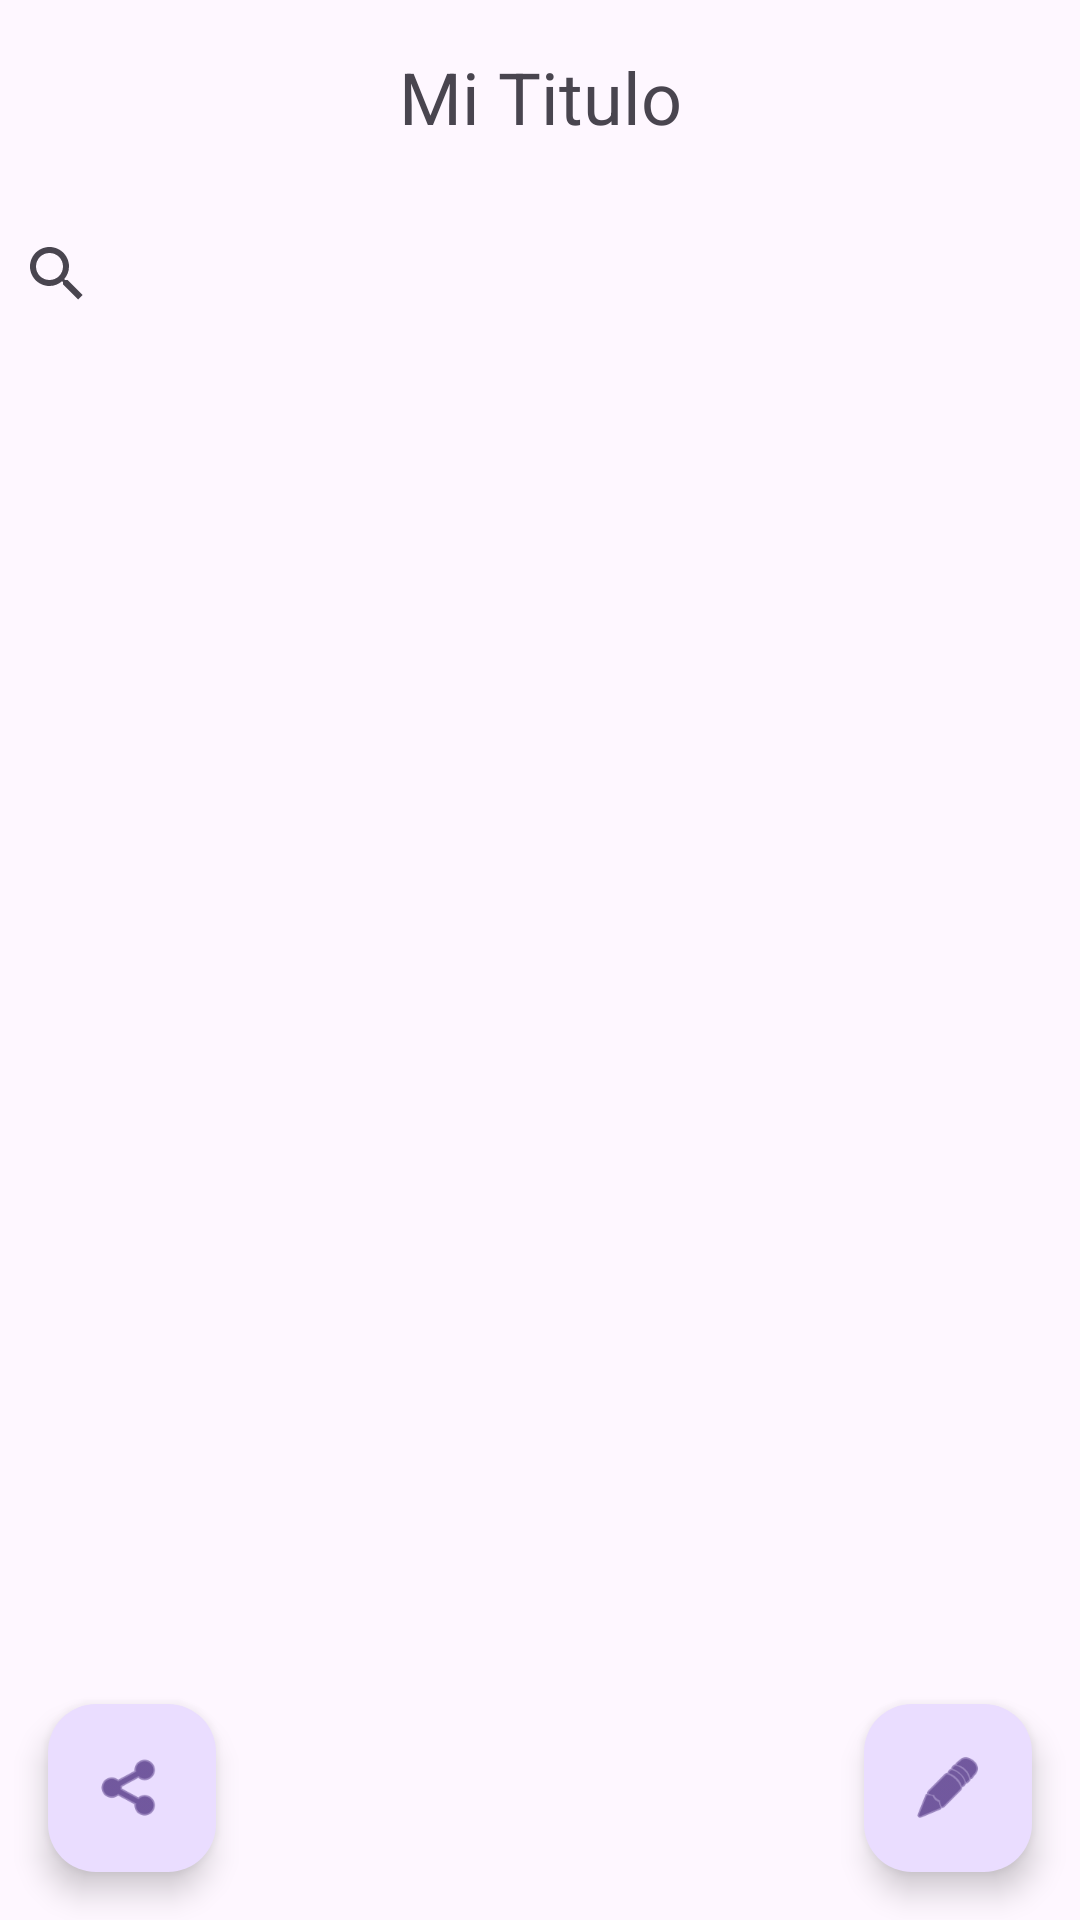

Icons on this 1080w x 1920h Android screen, each with its box as [x1,y1,x2,y2]:
Edit: [864,1704,1032,1872]
Share: [48,1704,216,1872]
